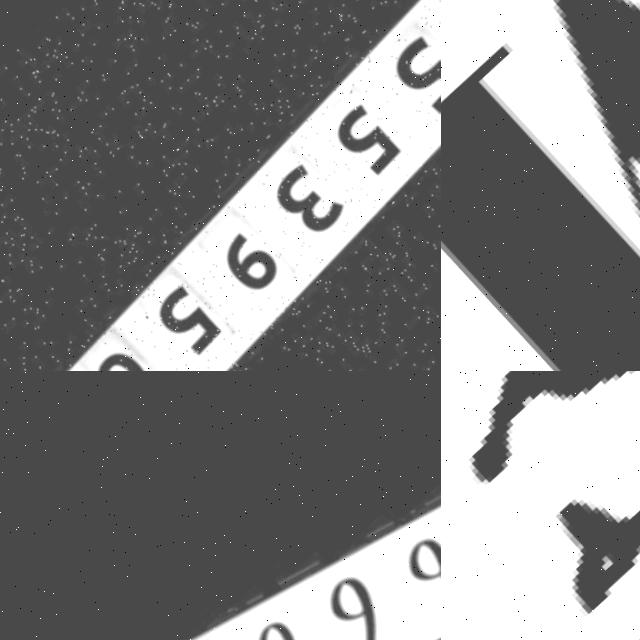3: (250, 143, 367, 262)
5: (312, 84, 426, 199), (131, 263, 243, 371), (368, 15, 441, 140)
6: (295, 555, 419, 640), (373, 516, 441, 640), (68, 325, 176, 371), (225, 600, 338, 640)
9: (196, 210, 302, 318)
E: (441, 371, 640, 640)
M: (441, 0, 640, 371)
